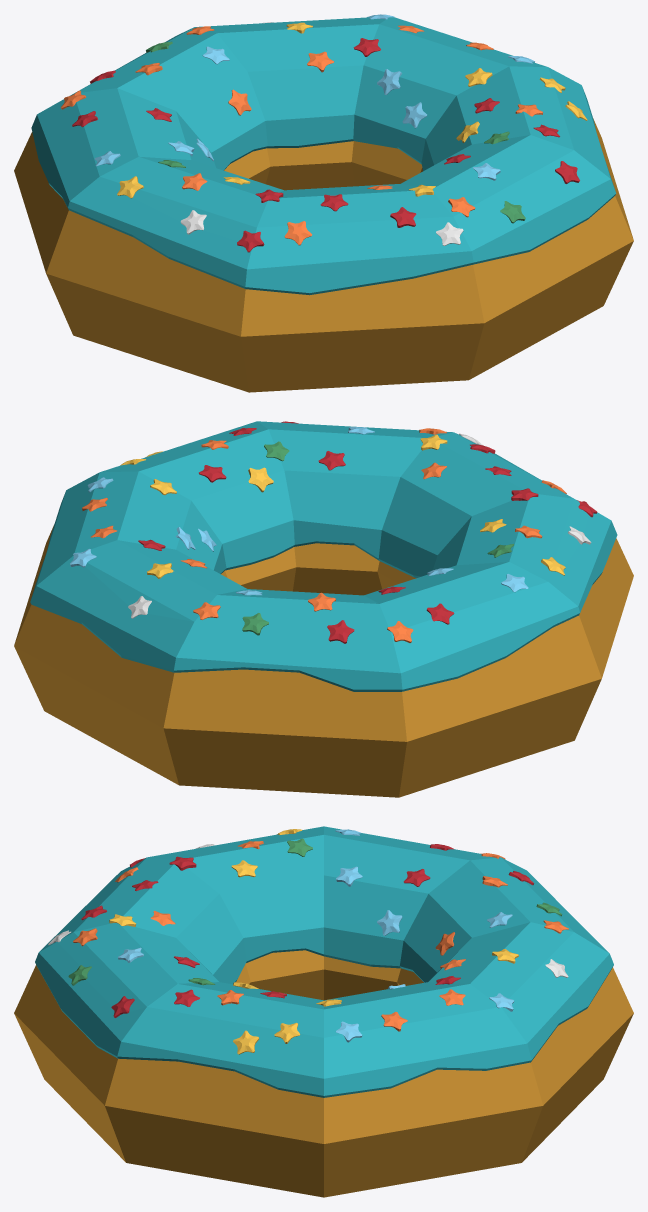
Rendered from DonutState0.fbx.
3 renders of one model, top to bottom at view 1: azimuth 30°, elevation 25°; view 2: azimuth 150°, elevation 25°; view 3: azimuth 270°, elevation 25°, orthographic. The views are drawn at different scales.
Parts seen in each view (by area): view 1: DonutState0; view 2: DonutState0; view 3: DonutState0.
Boxes of the visible parts, box(x1,y1,x2,y2) form: DonutState0: box(14, 14, 633, 392); DonutState0: box(14, 421, 633, 797); DonutState0: box(14, 826, 633, 1197).
Bounding box in the file's own units: 120 × 40.23 × 120.
